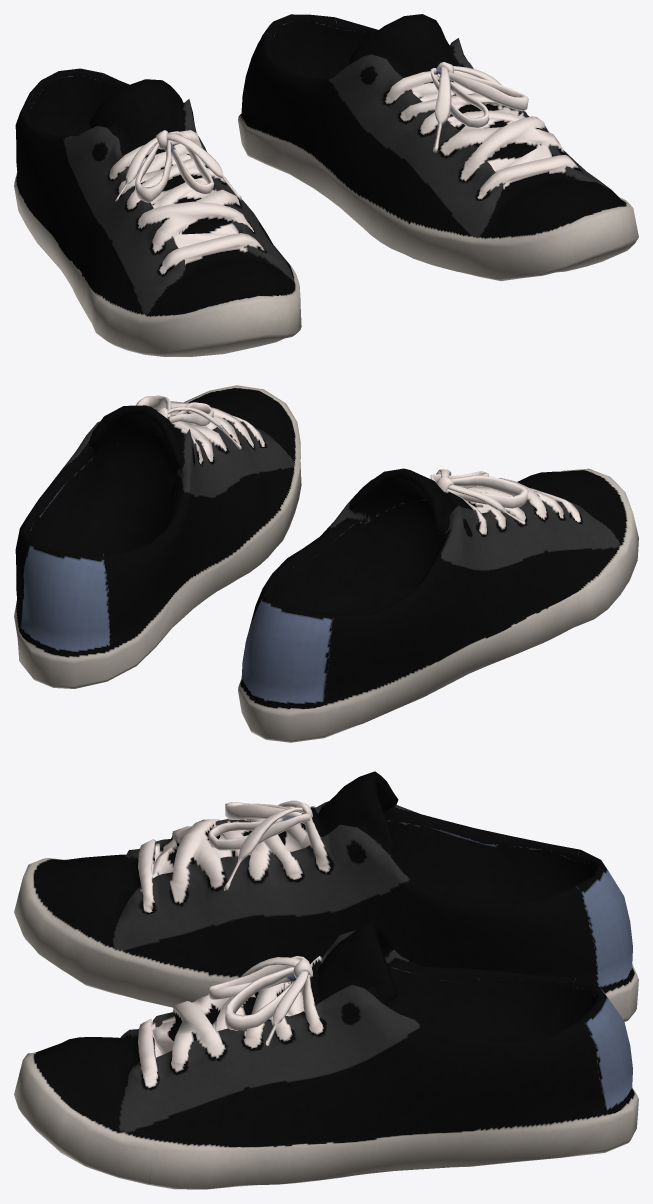
Rendered from shoe.fbx.
3 views of the same model, one above another, from view 1: azimuth 30°, elevation 25°; view 2: azimuth 150°, elevation 25°; view 3: azimuth 270°, elevation 25° (orthographic). The views are drawn at different scales.
Visible parts, largest first — view 1: Shoes.001; view 2: Shoes.001; view 3: Shoes.001.
Part boxes in pixels (bbox=[...]): Shoes.001: bbox=[14, 14, 638, 356]; Shoes.001: bbox=[14, 385, 638, 742]; Shoes.001: bbox=[14, 771, 638, 1189].
Bounding box in the file's own units: 592 × 218 × 557.
